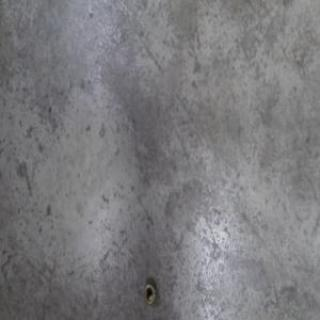Nuttrack_idkeyframe: (142, 280, 156, 306)
